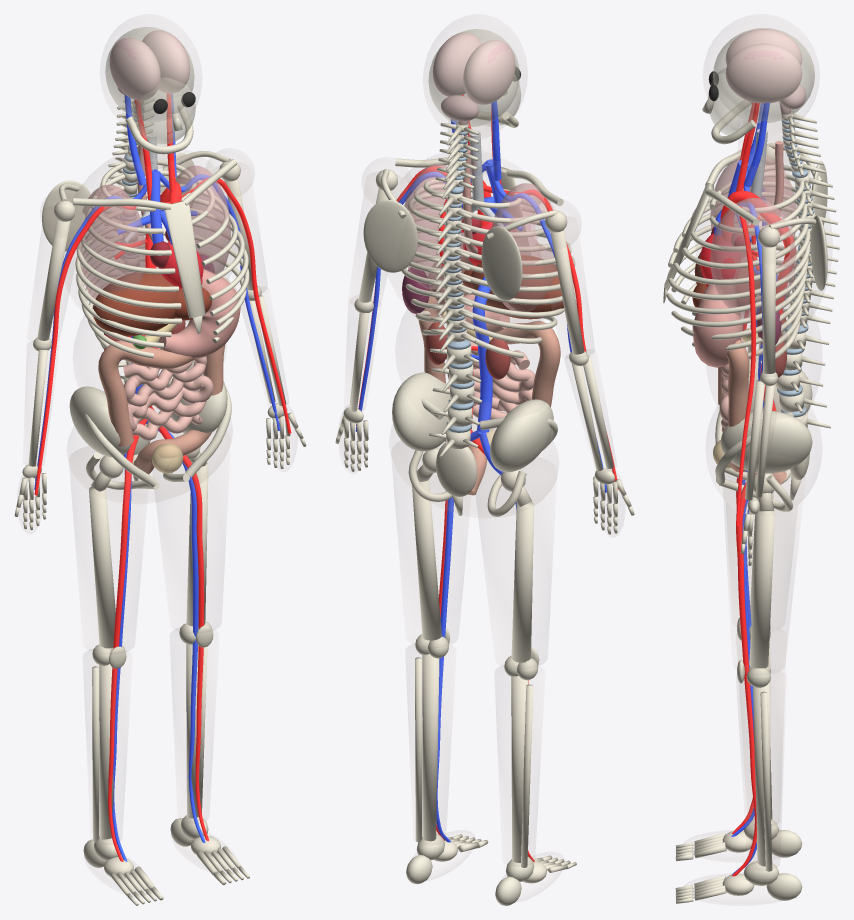
The picture shows the model from 3 angles, left to right: view 1: azimuth 30°, elevation 25°; view 2: azimuth 150°, elevation 25°; view 3: azimuth 270°, elevation 25°; orthographic projection. The views are drawn at different scales.
Parts seen in each view (by area): view 1: Cranium, SmallIntestine, LargeIntestine, Lung_R, Lung_L, Liver_RightLobe, Femur_R, Stomach, Face, Sternum, Cerebrum_R, LegArtery_R (+36 smaller); view 2: Cranium, Lung_R, Ilium_L, Ilium_R, Scapula_L, LargeIntestine, Femur_R, Tibia_L, Femur_L, Cerebrum_R, Lung_L, Tibia_R (+29 smaller); view 3: Cranium, Lung_L, Cerebrum_L, Ilium_L, Femur_L, Stomach, LegArtery_L, LargeIntestine, Tibia_L, Humerus_L, Face, ArmArtery_L (+42 smaller).
Part boxes in pixels (x1,y1,x2,y2): Cranium: [105, 27, 194, 121]; SmallIntestine: [123, 356, 213, 440]; LargeIntestine: [98, 340, 225, 474]; Lung_R: [78, 184, 145, 299]; Lung_L: [167, 165, 230, 274]; Liver_RightLobe: [93, 272, 177, 336]; Femur_R: [89, 486, 115, 648]; Stomach: [158, 268, 240, 358]; Face: [134, 78, 195, 144]; Sternum: [164, 201, 205, 318]; Cerebrum_R: [109, 37, 160, 100]; LegArtery_R: [108, 419, 147, 861]; Cranium: [428, 29, 519, 126]; Lung_R: [491, 183, 556, 311]; Ilium_L: [392, 372, 449, 451]; Ilium_R: [490, 399, 553, 472]; Scapula_L: [363, 200, 417, 272]; LargeIntestine: [418, 296, 560, 495]; Femur_R: [511, 501, 534, 662]; Tibia_L: [422, 654, 439, 841]; Femur_L: [412, 480, 441, 640]; Cerebrum_R: [463, 40, 515, 104]; Lung_L: [404, 163, 464, 289]; Tibia_R: [511, 676, 528, 862]; Cranium: [713, 28, 814, 122]; Lung_L: [710, 198, 796, 318]; Cerebrum_L: [725, 43, 802, 103]; Ilium_L: [720, 410, 812, 473]; Femur_L: [749, 510, 774, 668]; Stomach: [692, 278, 743, 367]; LegArtery_L: [732, 473, 756, 876]; LargeIntestine: [718, 340, 786, 484]; Tibia_L: [753, 682, 770, 866]; Humerus_L: [762, 246, 776, 373]; Face: [708, 67, 754, 135]; ArmArtery_L: [734, 202, 755, 525].
Size of the model in its own units: 0.6708 by 1.87 by 0.3461.
